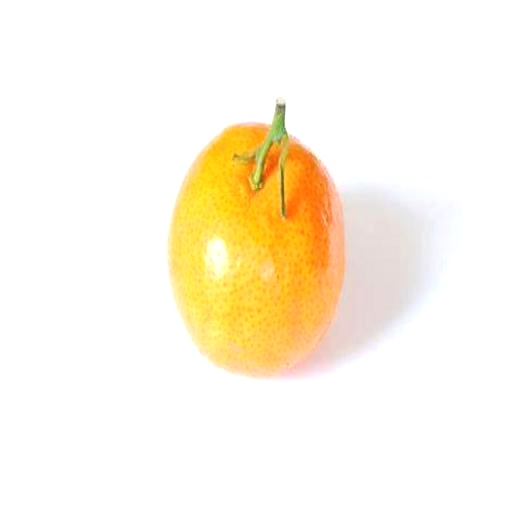fruit: (167, 100, 343, 375)
